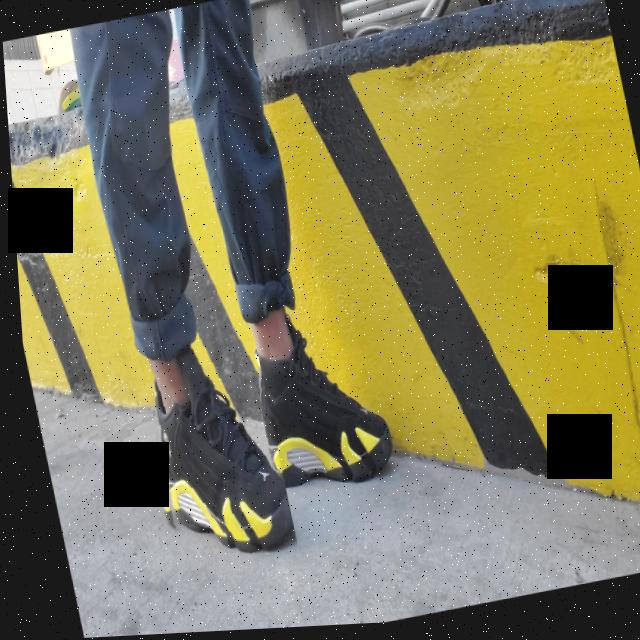shoe: (122, 330, 292, 577), (225, 303, 404, 512)
